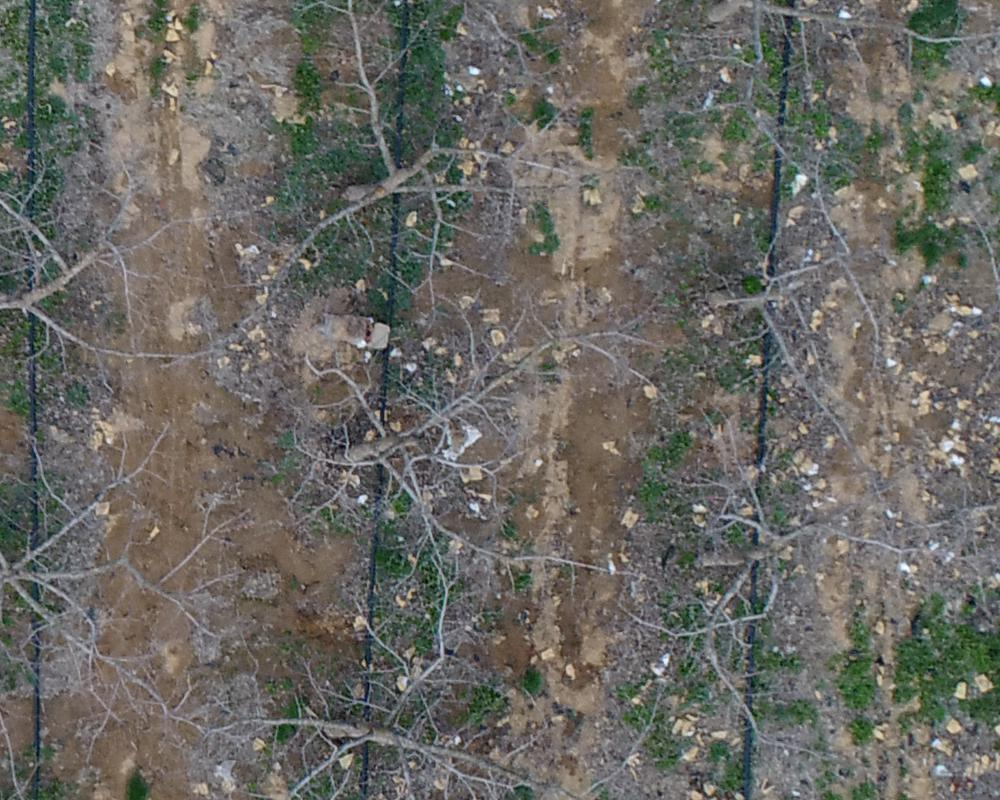apple: (259, 302, 602, 663), (256, 10, 558, 353), (585, 432, 859, 787), (672, 120, 921, 435), (185, 618, 632, 790), (10, 99, 207, 417), (10, 407, 199, 721)
